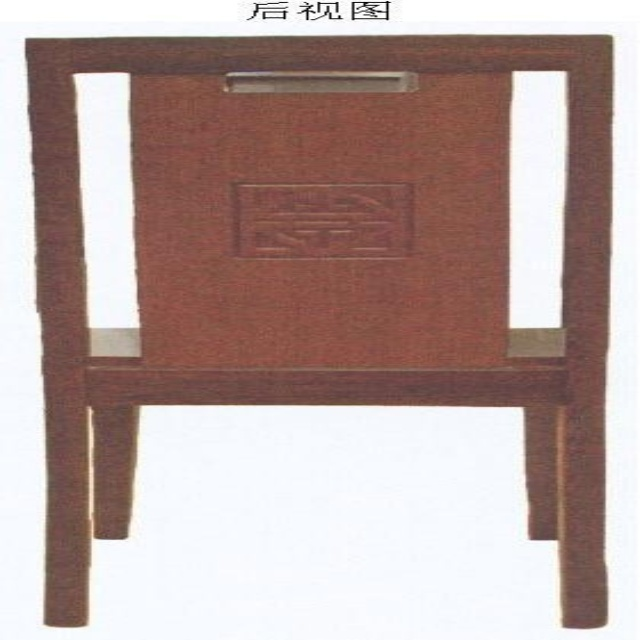obstacle: (27, 35, 610, 627)
